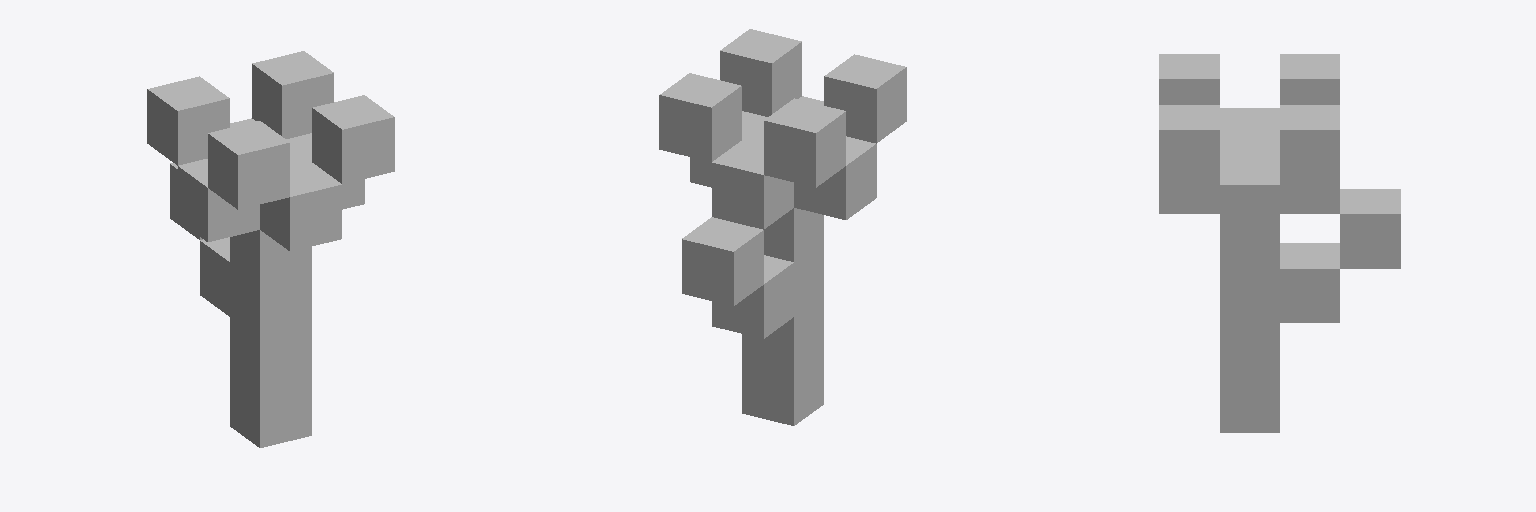
Rendered from Flower3.obj.
3 renders of one model, left to right at view 1: azimuth 30°, elevation 25°; view 2: azimuth 150°, elevation 25°; view 3: azimuth 270°, elevation 25°, orthographic.
Visible parts, largest first — view 1: object 1; view 2: object 1; view 3: object 1.
Boxes of the visible parts, <box> form: object 1: <box>147,51,394,447</box>; object 1: <box>659,29,906,425</box>; object 1: <box>1159,54,1400,432</box>.
Size of the model in its own units: 0.3 by 0.6 by 0.4.